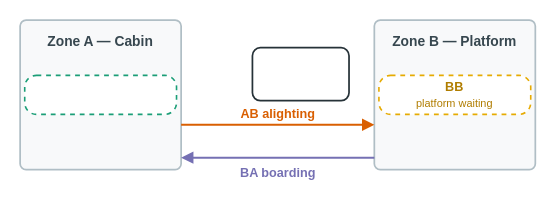
The diagram is 557 pixels wide and 201 high, and some of its shapes have lost their labels. The centre of each missing label's shape, as x and y in pixels:
"AA cabin transit" goes at point 100,94.
"Wi-Fi AP + sniffer" goes at point 300,73.
